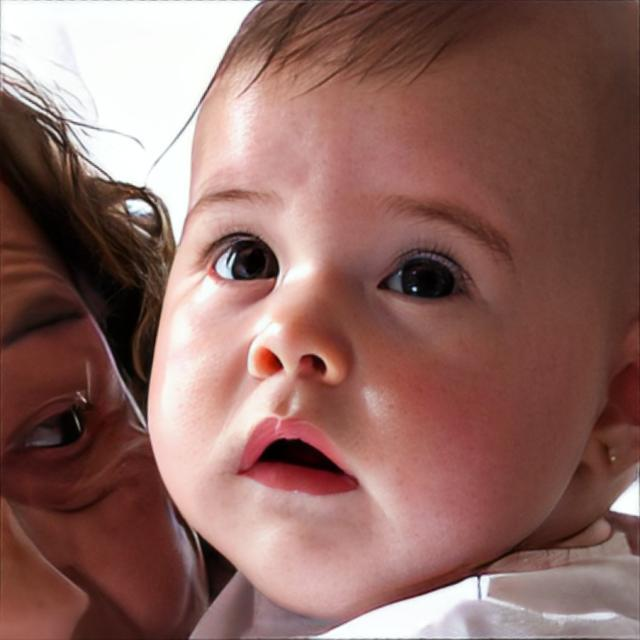fear: (145, 1, 640, 620)
